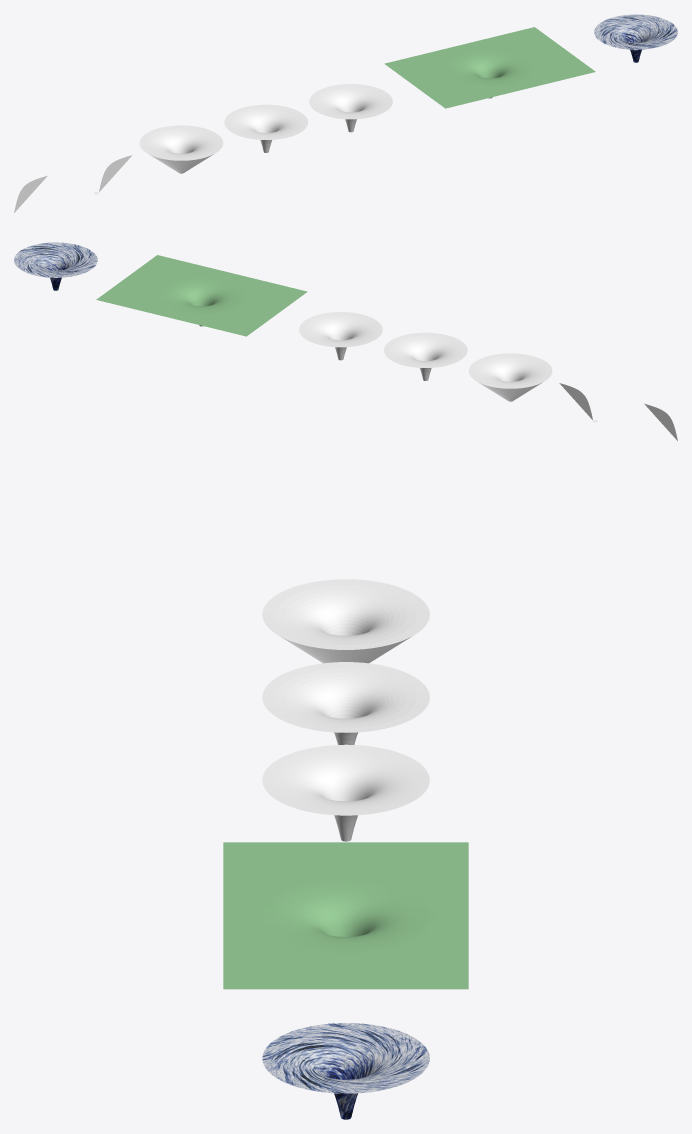
3 renders of one model, top to bottom at view 1: azimuth 30°, elevation 25°; view 2: azimuth 150°, elevation 25°; view 3: azimuth 270°, elevation 25°, orthographic. The views are drawn at different scales.
Parts seen in each view (by area): view 1: group_0, SketchUp (×5), group_1; view 2: group_0, SketchUp (×5), group_1; view 3: group_0, SketchUp (×3), group_1.
Part boxes in pixels (x1,y1,x2,y2): group_0: [384, 27, 595, 108]; SketchUp (×5): [14, 84, 392, 212]; group_1: [594, 14, 677, 62]; group_0: [96, 255, 307, 336]; SketchUp (×5): [299, 312, 677, 440]; group_1: [14, 242, 97, 290]; group_0: [223, 842, 468, 989]; SketchUp (×3): [262, 579, 429, 841]; group_1: [262, 1023, 429, 1119].
Bounding box in the file's own units: 1760 × 284 × 75.57.
3 materials, 1 textured.
